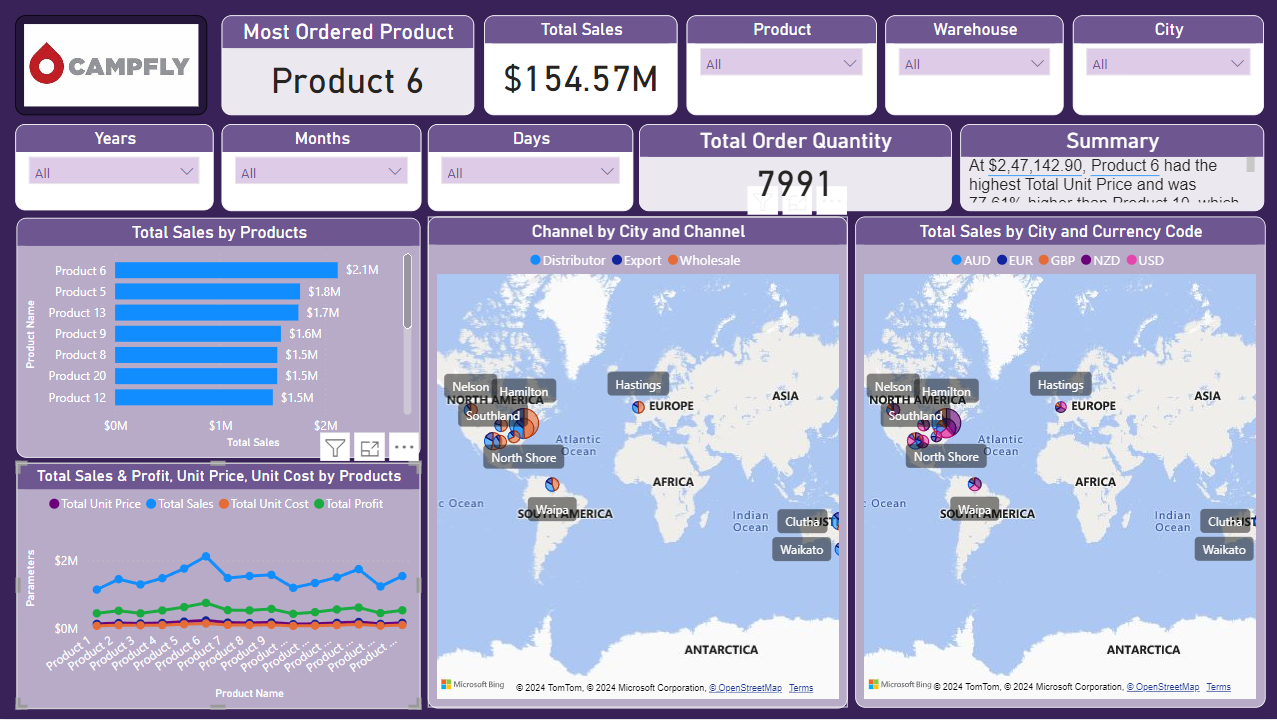

What the dashboard file says about the page in this screenshot:
{"tool":"powerbi","page":{"name":"Campfly 2","canvas":[1280,720],"ordinal":1},"visuals":[{"type":"image","box":[16,16,192,100],"z":0},{"type":"card","title":"Total Sales","fields":{"Values":["Sum(Sales Orders.Total Revenue)"]},"box":[485,16.2,193.8,100],"z":1000},{"type":"slicer","title":"Product","fields":{"Values":["Products.Product Name"]},"box":[687.5,16.2,190,100],"z":2000},{"type":"card","title":"Most Ordered Product","fields":{"Values":["Sales Orders.Most Ordered Product Name"]},"box":[222.5,16.2,252.5,100],"z":3000},{"type":"slicer","title":"Years","fields":{"Values":["Sales Orders.Year"]},"box":[16.2,125,198,86.2],"z":4000},{"type":"slicer","title":"Months","fields":{"Values":["Sales Orders.Month Name"]},"box":[222.1,124.4,200,87.2],"z":5000},{"type":"slicer","title":"Days","fields":{"Values":["Sales Orders.Day Name"]},"box":[429.1,124.4,205.8,87.2],"z":6000},{"type":"slicer","title":"Warehouse","fields":{"Values":["Sales Orders.Warehouse Code"]},"box":[886.2,16.2,178.8,100],"z":7000},{"type":"clusteredBarChart","title":"Total Sales by Products","fields":{"Category":["Products.Product Name"],"Y":["Sum(Sales Orders.Total Revenue)"]},"box":[17.1,218.6,404.3,240],"z":8000},{"type":"lineChart","title":"Total Sales & Profit, Unit Price, Unit Cost by Products","fields":{"Category":["Products.Product Name"],"Y":["Sum(Sales Orders.Unit Price)","Sum(Sales Orders.Total Revenue)","Sum(Sales Orders.Total Unit Cost)","Sum(Sales Orders.Profit)"]},"box":[17.5,463.8,403.8,246.2],"z":9000},{"type":"map","title":"Total Sales by City and Currency Code","fields":{"Category":["Regions.City"],"Size":["Sum(Sales Orders.Total Revenue)"],"Series":["Sales Orders.Currency Code"]},"box":[855.7,217.1,410,491.4],"z":10000},{"type":"map","title":"Channel by City and Channel","fields":{"Category":["Regions.City"],"Size":["CountNonNull(Sales Orders.Channel)"],"Series":["Sales Orders.Channel"]},"box":[428.6,217.1,420,492],"z":11000},{"type":"card","title":"Total Order Quantity","fields":{"Values":["CountNonNull(Sales Orders.Order Quantity)"]},"box":[640,125,312.5,87.5],"z":12000},{"type":"textbox","title":"Summary","box":[961.2,125,303.8,87.5],"z":12001},{"type":"slicer","title":"City","fields":{"Values":["Regions.City"]},"box":[1073.8,16.2,191.2,100],"z":12002}]}

Visuals, with their boxes in screenshot pixels (x1, y1, x2, y2), scaled from the page's 1280x720 canvas onto the 1277x720 screenshot:
image: select_region(16, 16, 208, 116)
"Total Sales" card: select_region(484, 16, 677, 116)
"Product" slicer: select_region(686, 16, 875, 116)
"Most Ordered Product" card: select_region(222, 16, 474, 116)
"Years" slicer: select_region(16, 125, 214, 211)
"Months" slicer: select_region(222, 124, 421, 212)
"Days" slicer: select_region(428, 124, 633, 212)
"Warehouse" slicer: select_region(884, 16, 1063, 116)
"Total Sales by Products" clusteredBarChart: select_region(17, 219, 420, 459)
"Total Sales & Profit, Unit Price, Unit Cost by Products" lineChart: select_region(17, 464, 420, 710)
"Total Sales by City and Currency Code" map: select_region(854, 217, 1263, 708)
"Channel by City and Channel" map: select_region(428, 217, 847, 709)
"Total Order Quantity" card: select_region(638, 125, 950, 212)
"Summary" textbox: select_region(959, 125, 1262, 212)
"City" slicer: select_region(1071, 16, 1262, 116)
